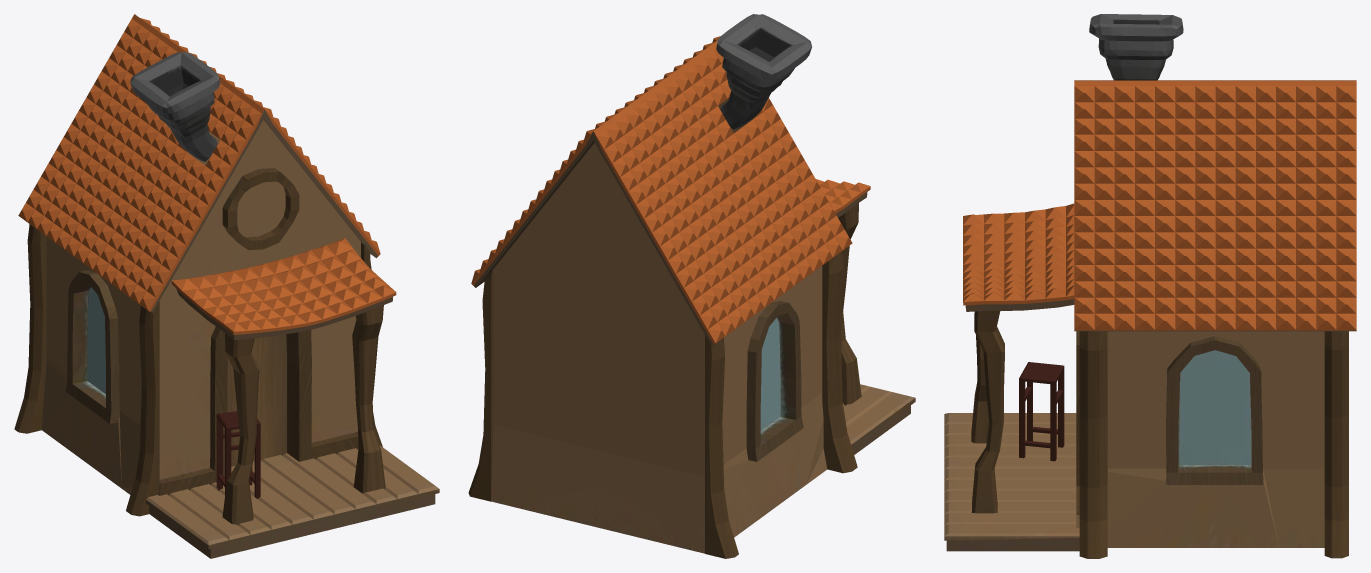
3 renders of one model, left to right at view 1: azimuth 30°, elevation 25°; view 2: azimuth 150°, elevation 25°; view 3: azimuth 270°, elevation 25°, orthographic. The views are drawn at different scales.
Visible parts, largest first — view 1: slot_anchor_house, slot_roof, slot_porch_canopy, slot_add02_a_wooden_park_benc; view 2: slot_anchor_house, slot_roof, slot_porch_canopy; view 3: slot_anchor_house, slot_roof, slot_porch_canopy, slot_add02_a_wooden_park_benc.
Part boxes in pixels (x1=…): slot_anchor_house: x1=14, y1=120, x2=439, y2=558; slot_roof: x1=18, y1=14, x2=380, y2=312; slot_porch_canopy: x1=171, y1=238, x2=396, y2=340; slot_add02_a_wooden_park_benc: x1=216, y1=411, x2=260, y2=498; slot_anchor_house: x1=468, y1=97, x2=915, y2=558; slot_roof: x1=471, y1=14, x2=852, y2=345; slot_porch_canopy: x1=816, y1=179, x2=870, y2=217; slot_anchor_house: x1=944, y1=311, x2=1348, y2=558; slot_roof: x1=1074, y1=14, x2=1356, y2=331; slot_porch_canopy: x1=963, y1=203, x2=1074, y2=311; slot_add02_a_wooden_park_benc: x1=1019, y1=362, x2=1064, y2=461.
Size of the model in its own units: 0.7265 by 1.13 by 0.9419.
2 materials, 2 textured.
